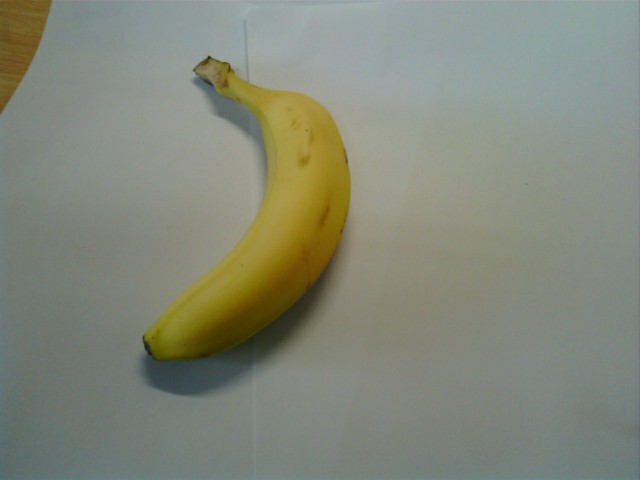fresh_banana: (143, 79, 351, 364)
